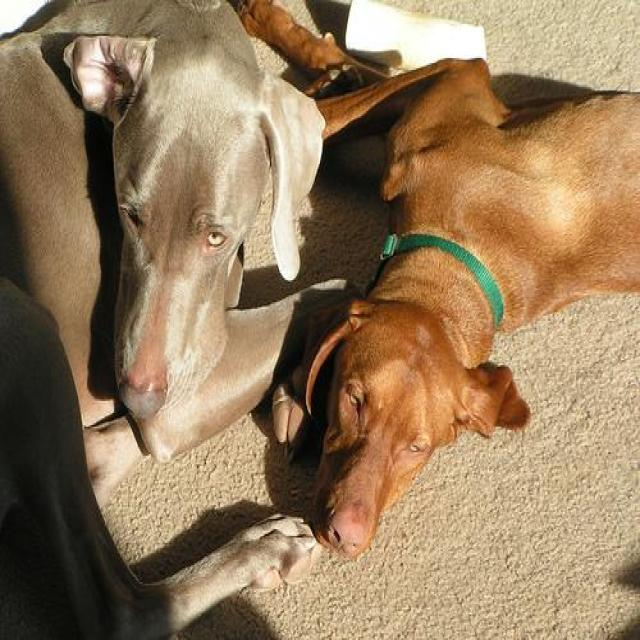vizsla: (230, 0, 639, 560)
